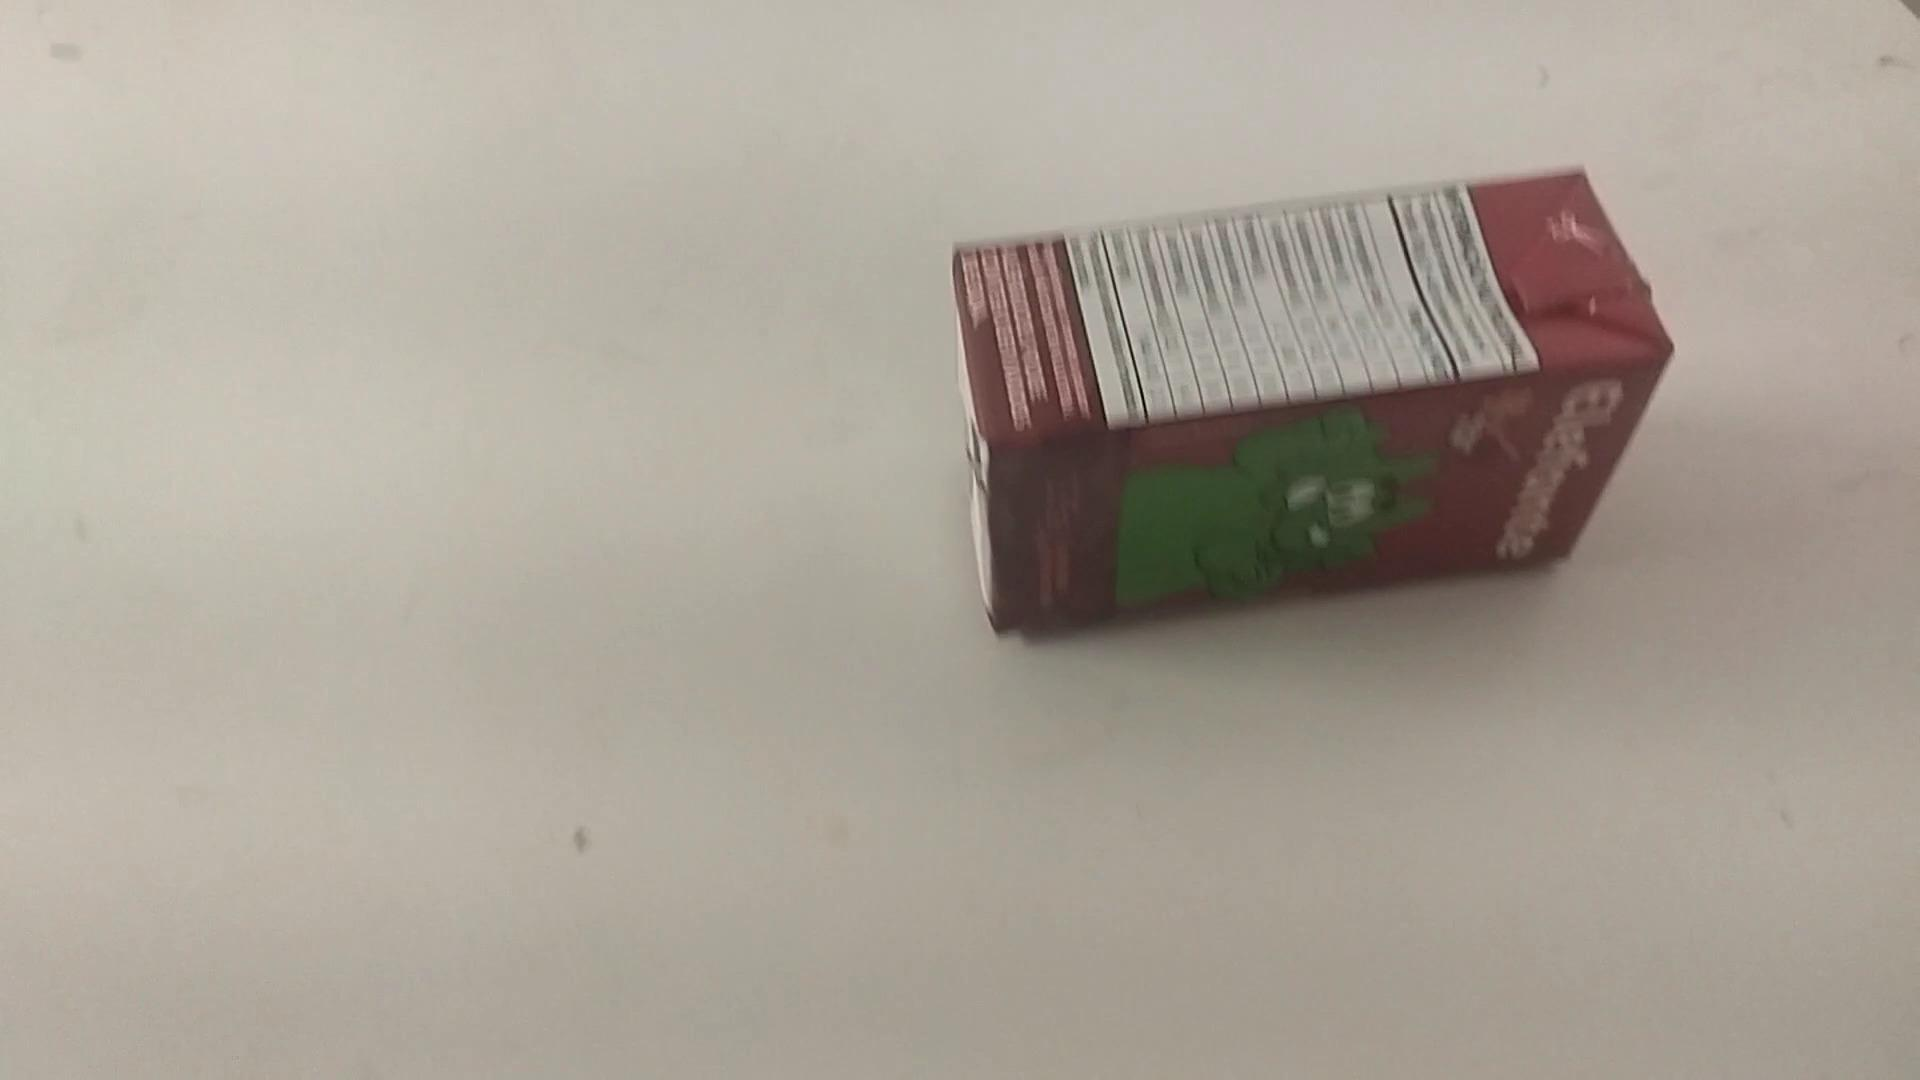tomate: (880, 153, 1833, 688)
